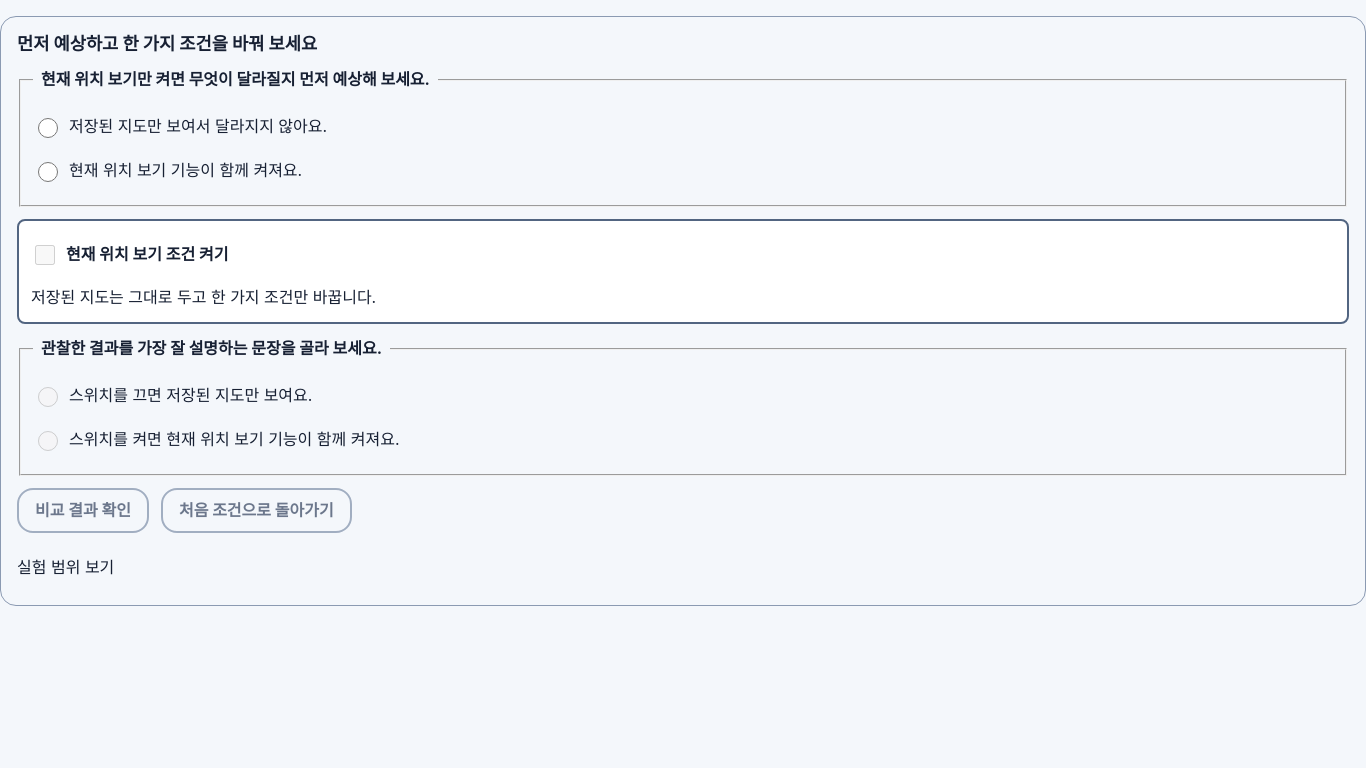
Test: SimulationLearningLoop › resets the map condition and clears local prediction and explanation
Click the radio button labelled "저장된 지도만 보여서 달라지지 않아요.": (48, 128) [38,118,58,138]
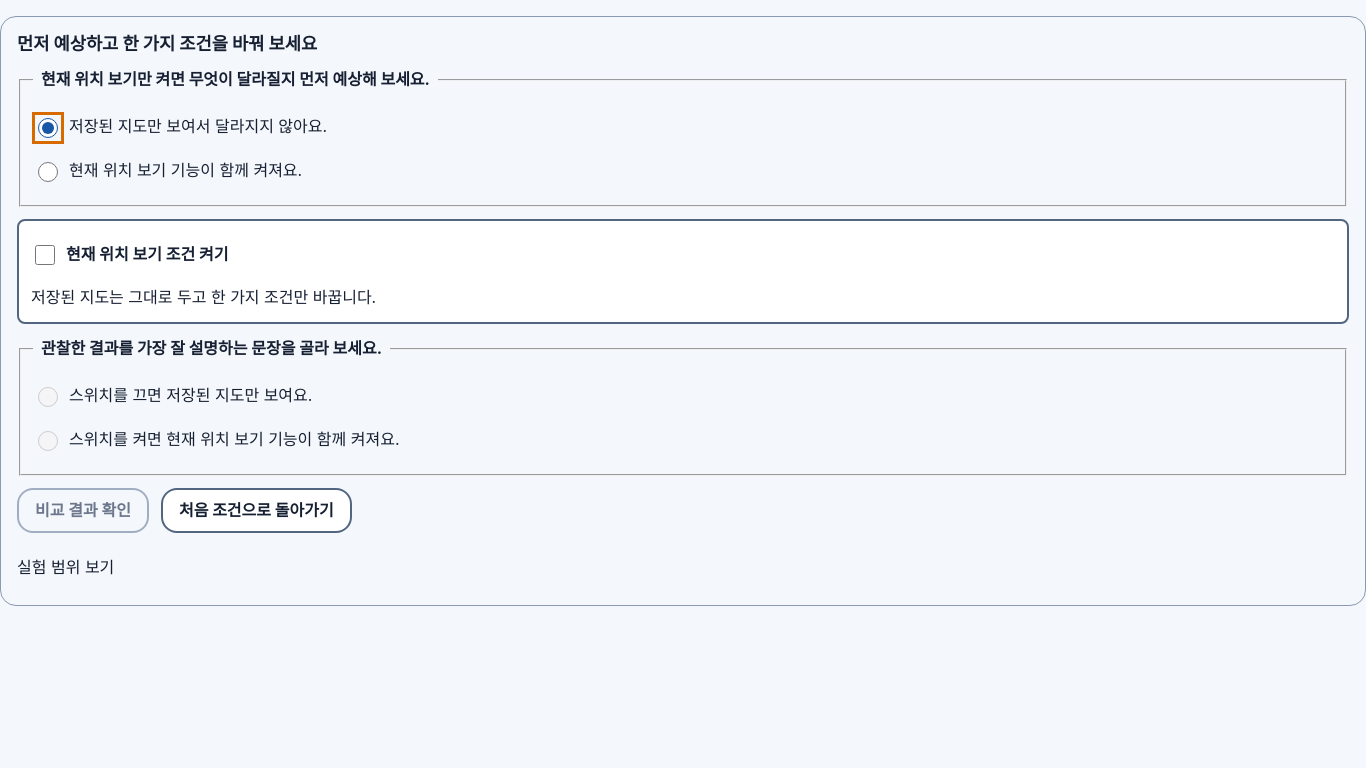
Click the checkbox labelled "현재 위치 보기 조건 켜기": (45, 255) [35,245,55,265]
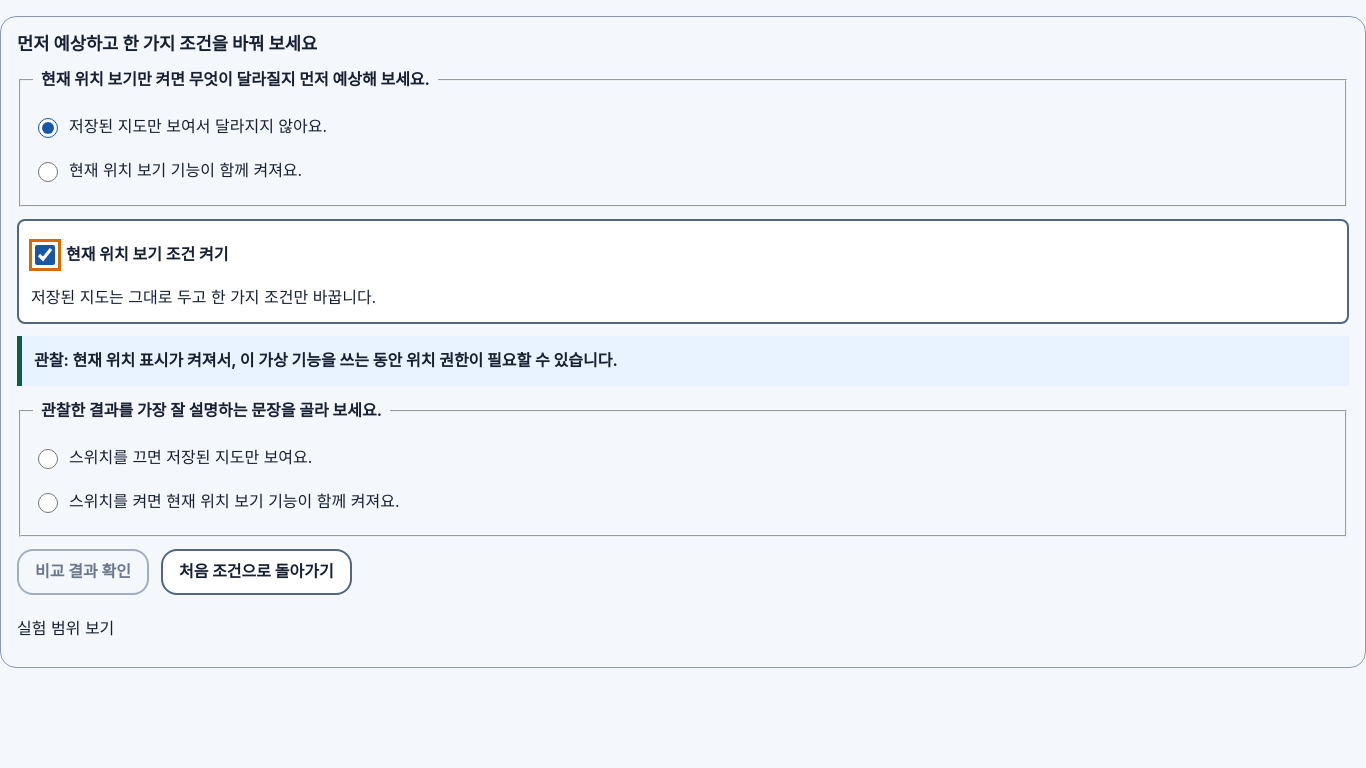
Click the button "처음 조건으로 돌아가기": (256, 572) [161,549,352,595]
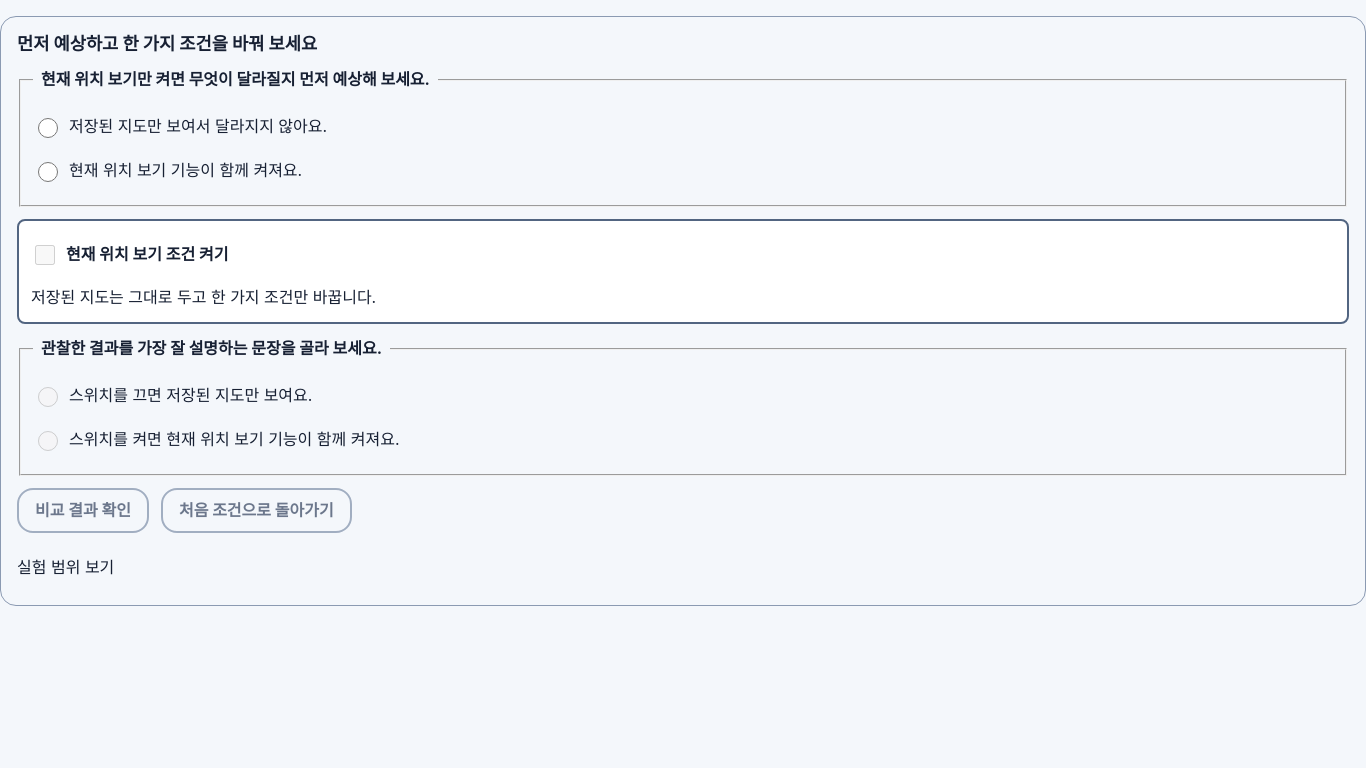
Result: the checkbox labelled "현재 위치 보기 조건 켜기" is not checked at [35,245,55,265]
Result: the radio button labelled "저장된 지도만 보여서 달라지지 않아요." is not checked at [38,118,58,138]
Result: the text "관찰:" is gone
